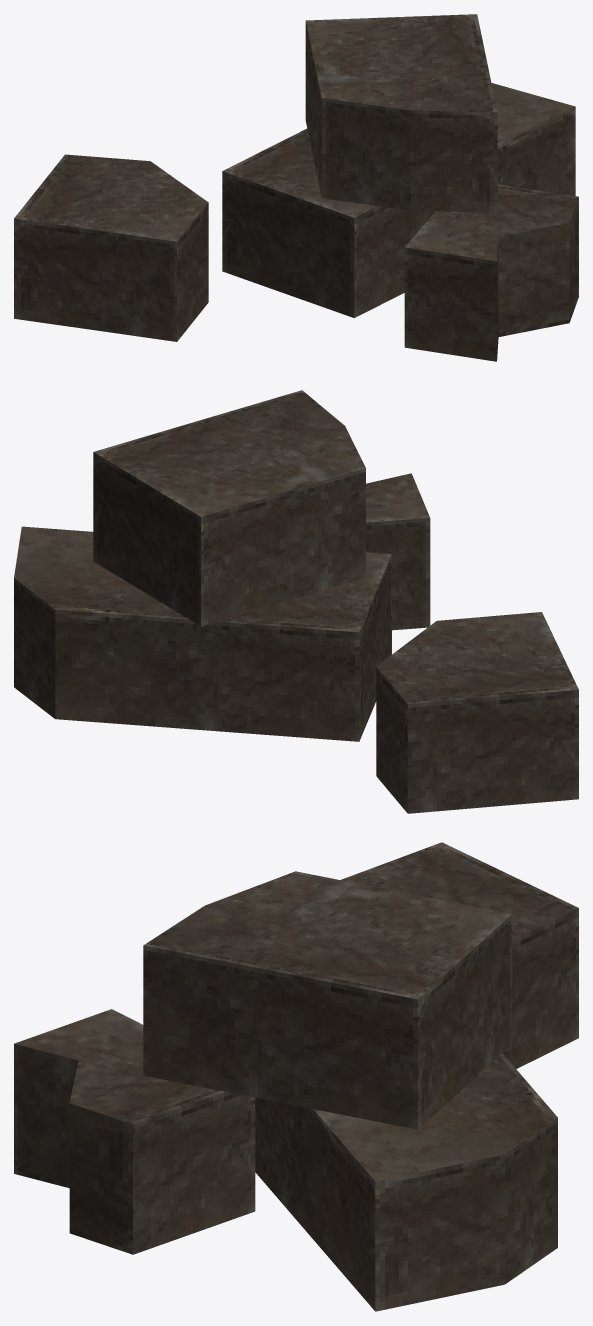
The model's file is bricks_stacked_mx_3.glb.
3 renders of one model, top to bottom at view 1: azimuth 30°, elevation 25°; view 2: azimuth 150°, elevation 25°; view 3: azimuth 270°, elevation 25°, orthographic. The views are drawn at different scales.
Parts seen in each view (by area): view 1: bricks_stacked_mx_3; view 2: bricks_stacked_mx_3; view 3: bricks_stacked_mx_3.
Part boxes in pixels (left/top/right/bottom): bricks_stacked_mx_3: left=14, top=14, right=578, bottom=361; bricks_stacked_mx_3: left=14, top=390, right=578, bottom=813; bricks_stacked_mx_3: left=14, top=842, right=578, bottom=1311.
Size of the model in its own units: 0.5033 by 0.18 by 0.3541.
Materials: 1 (1 with a texture image).
